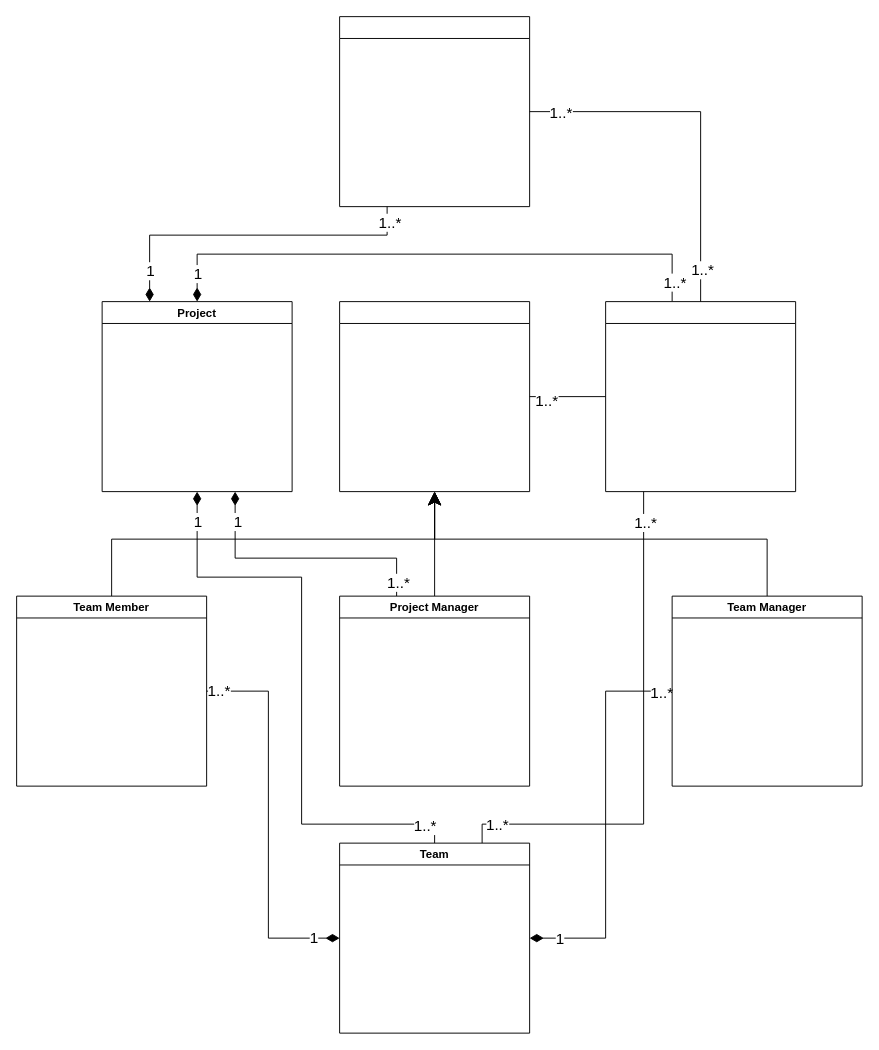
This 879x1050 diagram has some shape labels left out. Here are the shapes that lost their labels. From the top down, the box of each, then its label:
(339, 16, 530, 207): Deadline
(339, 301, 530, 492): Normal User
(605, 301, 796, 492): Task
